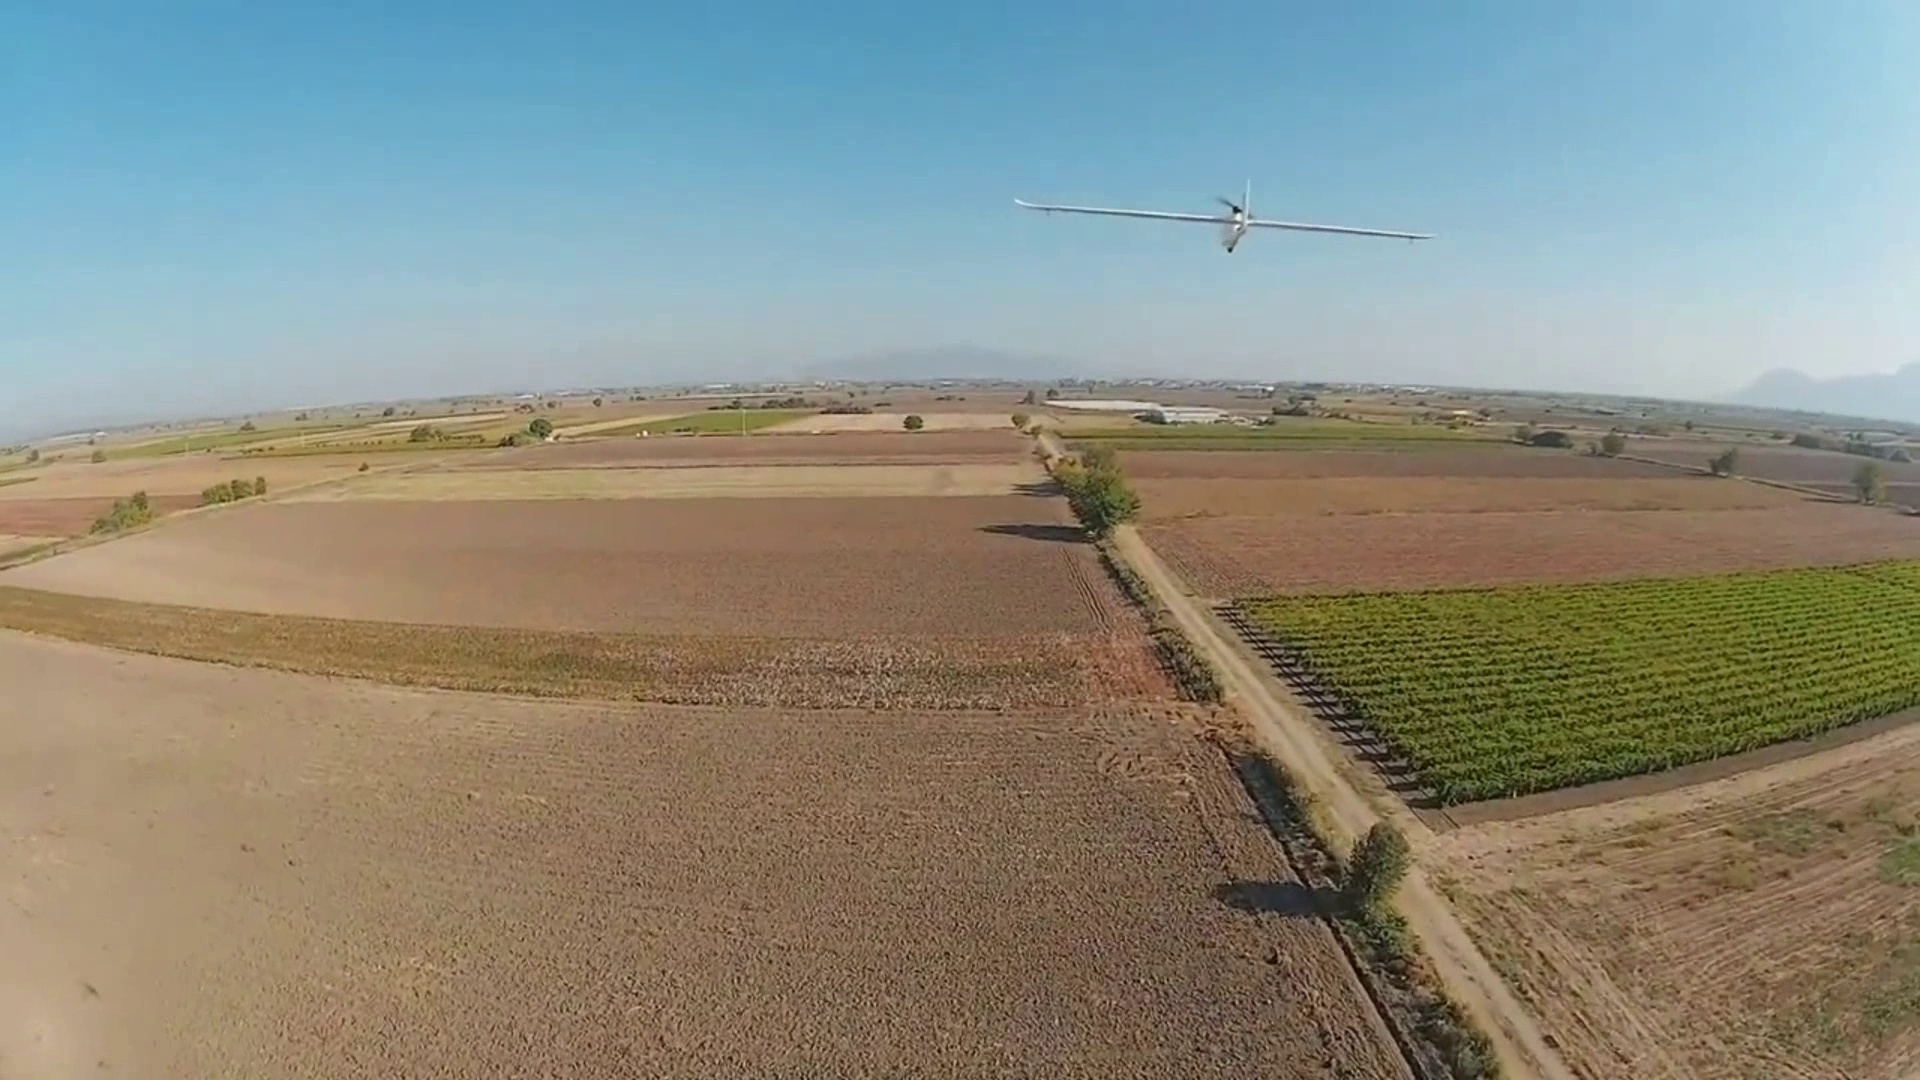airplane: (1009, 182, 1436, 253)
